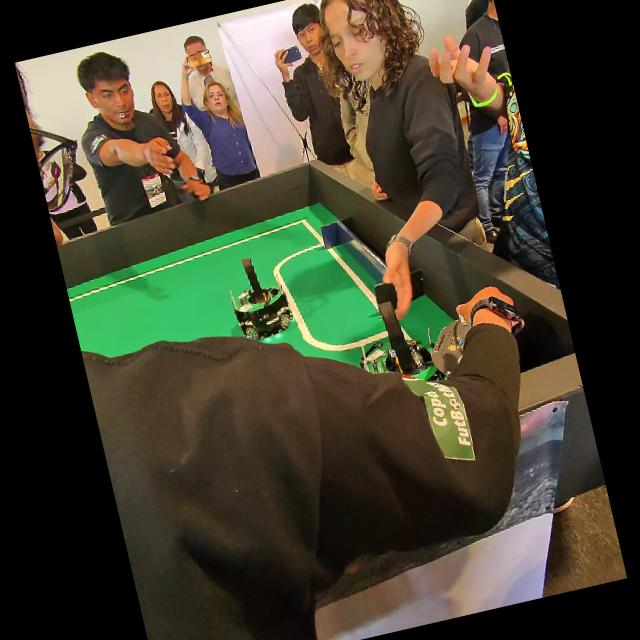goal: (319, 220, 395, 303)
robot: (229, 258, 291, 339)
